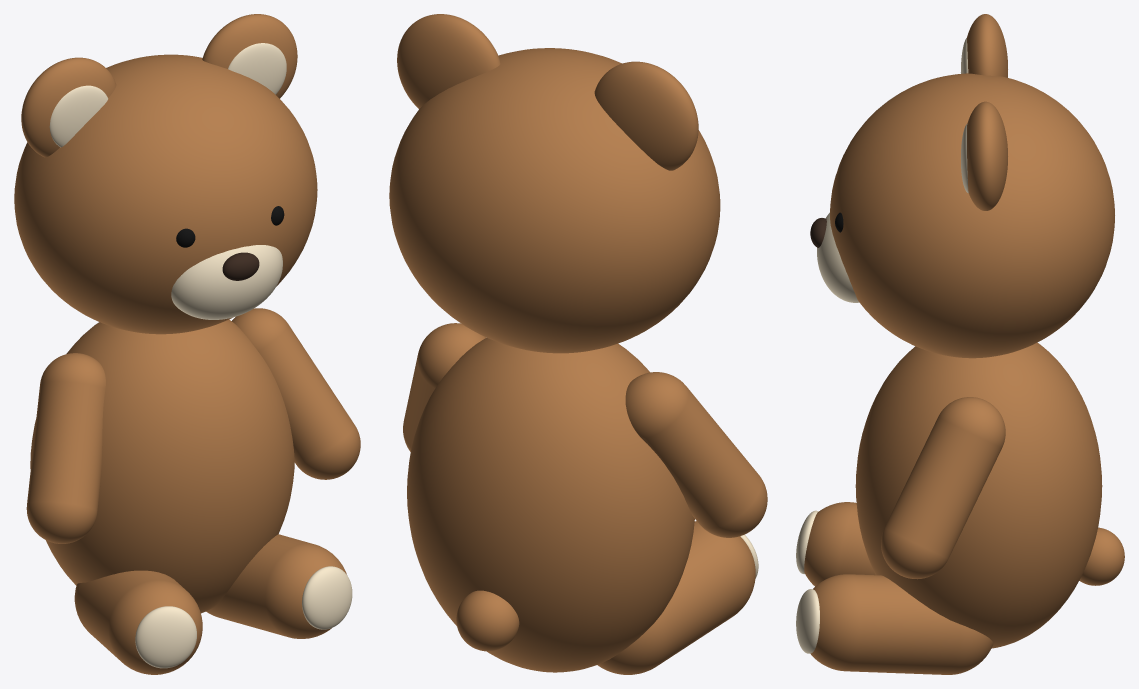
File: amigurumi-teddy-bear.glb
3 views of the same model, side by side, from view 1: azimuth 30°, elevation 25°; view 2: azimuth 150°, elevation 25°; view 3: azimuth 270°, elevation 25° (orthographic). The views are drawn at different scales.
Parts seen in each view (by area): view 1: head, body, arm_r, arm_l, leg_l, leg_r, muzzle, ear_r, ear_l, foot_pad_r, foot_pad_l, ear_r_inner (+2 smaller); view 2: head, body, arm_r, leg_r, ear_r, ear_l, arm_l, tail; view 3: head, body, leg_l, arm_l, leg_r, ear_l, ear_r, tail, muzzle, foot_pad_l, foot_pad_r.
Part boxes in pixels (x1,y1,x2,y2): head: (14, 54, 317, 334); body: (30, 319, 294, 613); arm_r: (26, 353, 105, 543); arm_l: (232, 308, 360, 479); leg_l: (206, 534, 346, 638); leg_r: (74, 570, 202, 674); muzzle: (171, 245, 282, 319); ear_r: (21, 57, 116, 157); ear_l: (202, 14, 297, 98); foot_pad_r: (135, 606, 196, 668); foot_pad_l: (302, 566, 352, 629); ear_r_inner: (49, 85, 108, 147); head: (389, 48, 720, 353); body: (407, 337, 694, 672); arm_r: (625, 372, 767, 537); leg_r: (597, 521, 755, 674); ear_r: (594, 61, 698, 170); ear_l: (397, 14, 500, 108); arm_l: (403, 323, 485, 451); tail: (456, 590, 519, 651); head: (830, 73, 1114, 358); body: (855, 342, 1102, 648); leg_l: (810, 574, 993, 674); arm_l: (881, 397, 1005, 579); leg_r: (804, 502, 875, 586); ear_l: (967, 101, 1007, 210); ear_r: (967, 14, 1007, 77); tail: (1079, 527, 1124, 585); muzzle: (817, 212, 859, 302); foot_pad_l: (796, 589, 819, 653); foot_pad_r: (796, 510, 818, 574).
Bounding box in the file's own units: 5.81 × 9.88 × 5.07.
